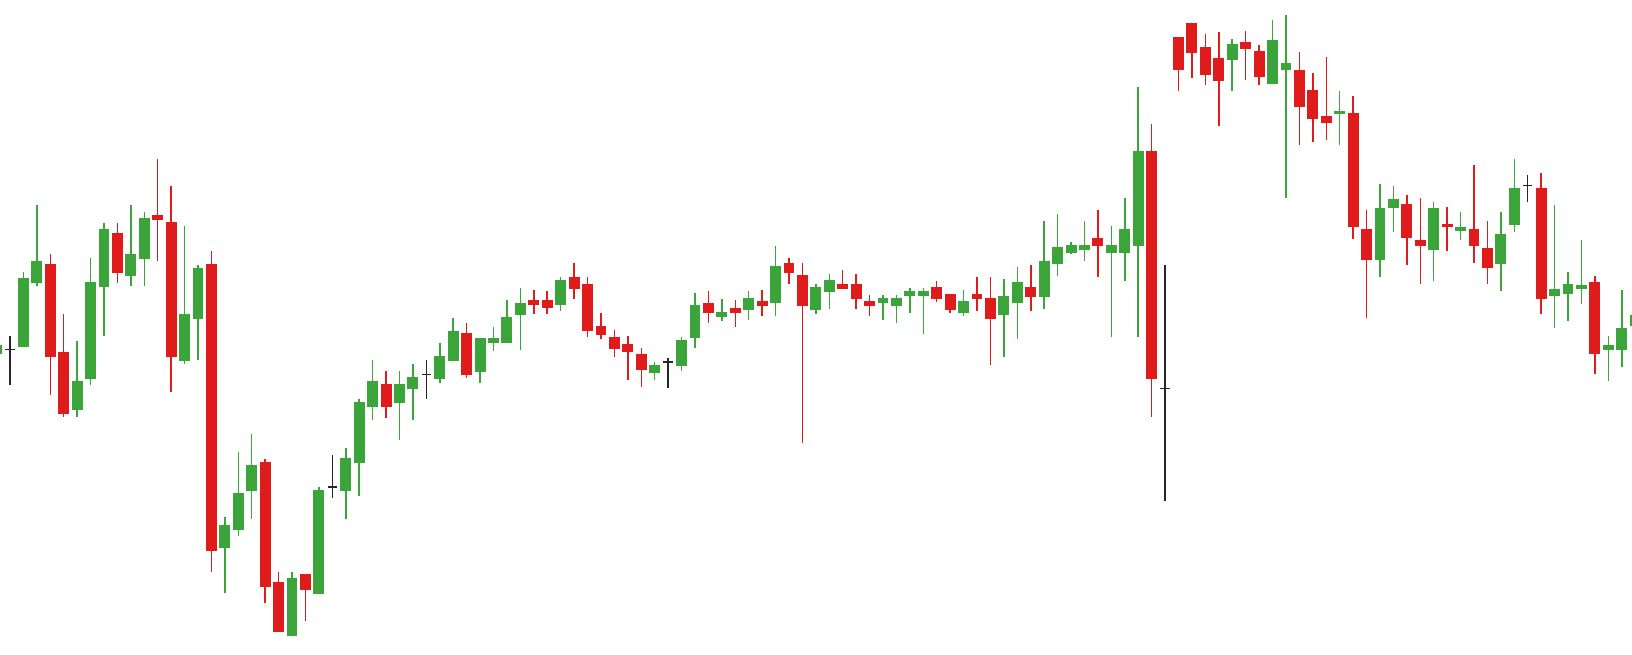sell: (1464, 156, 1551, 260)
